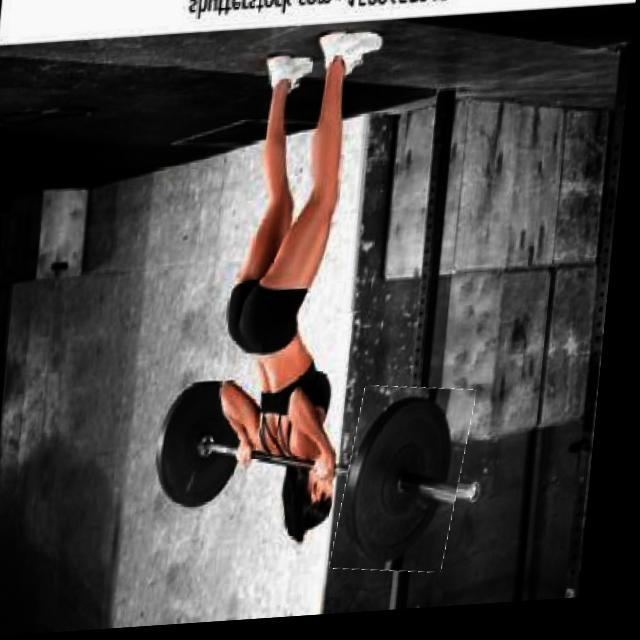barbell: (346, 389, 482, 583)
